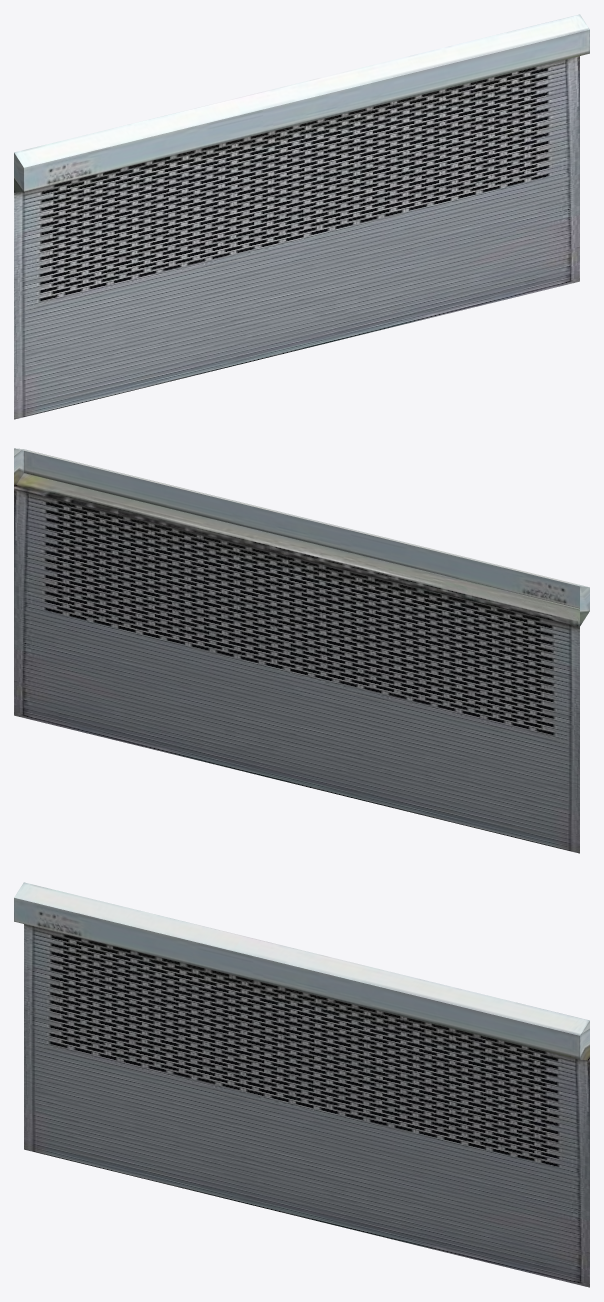
The model's file is rolling_door.fbx.
3 renders of one model, top to bottom at view 1: azimuth 30°, elevation 25°; view 2: azimuth 150°, elevation 25°; view 3: azimuth 330°, elevation 25°, orthographic.
Visible parts, largest first — view 1: Plane; view 2: Plane; view 3: Plane.
Part boxes in pixels (bbox=[...]): Plane: bbox=[14, 14, 589, 419]; Plane: bbox=[14, 448, 589, 853]; Plane: bbox=[14, 882, 589, 1287].
Bounding box in the file's own units: 443 × 200 × 13.49.
